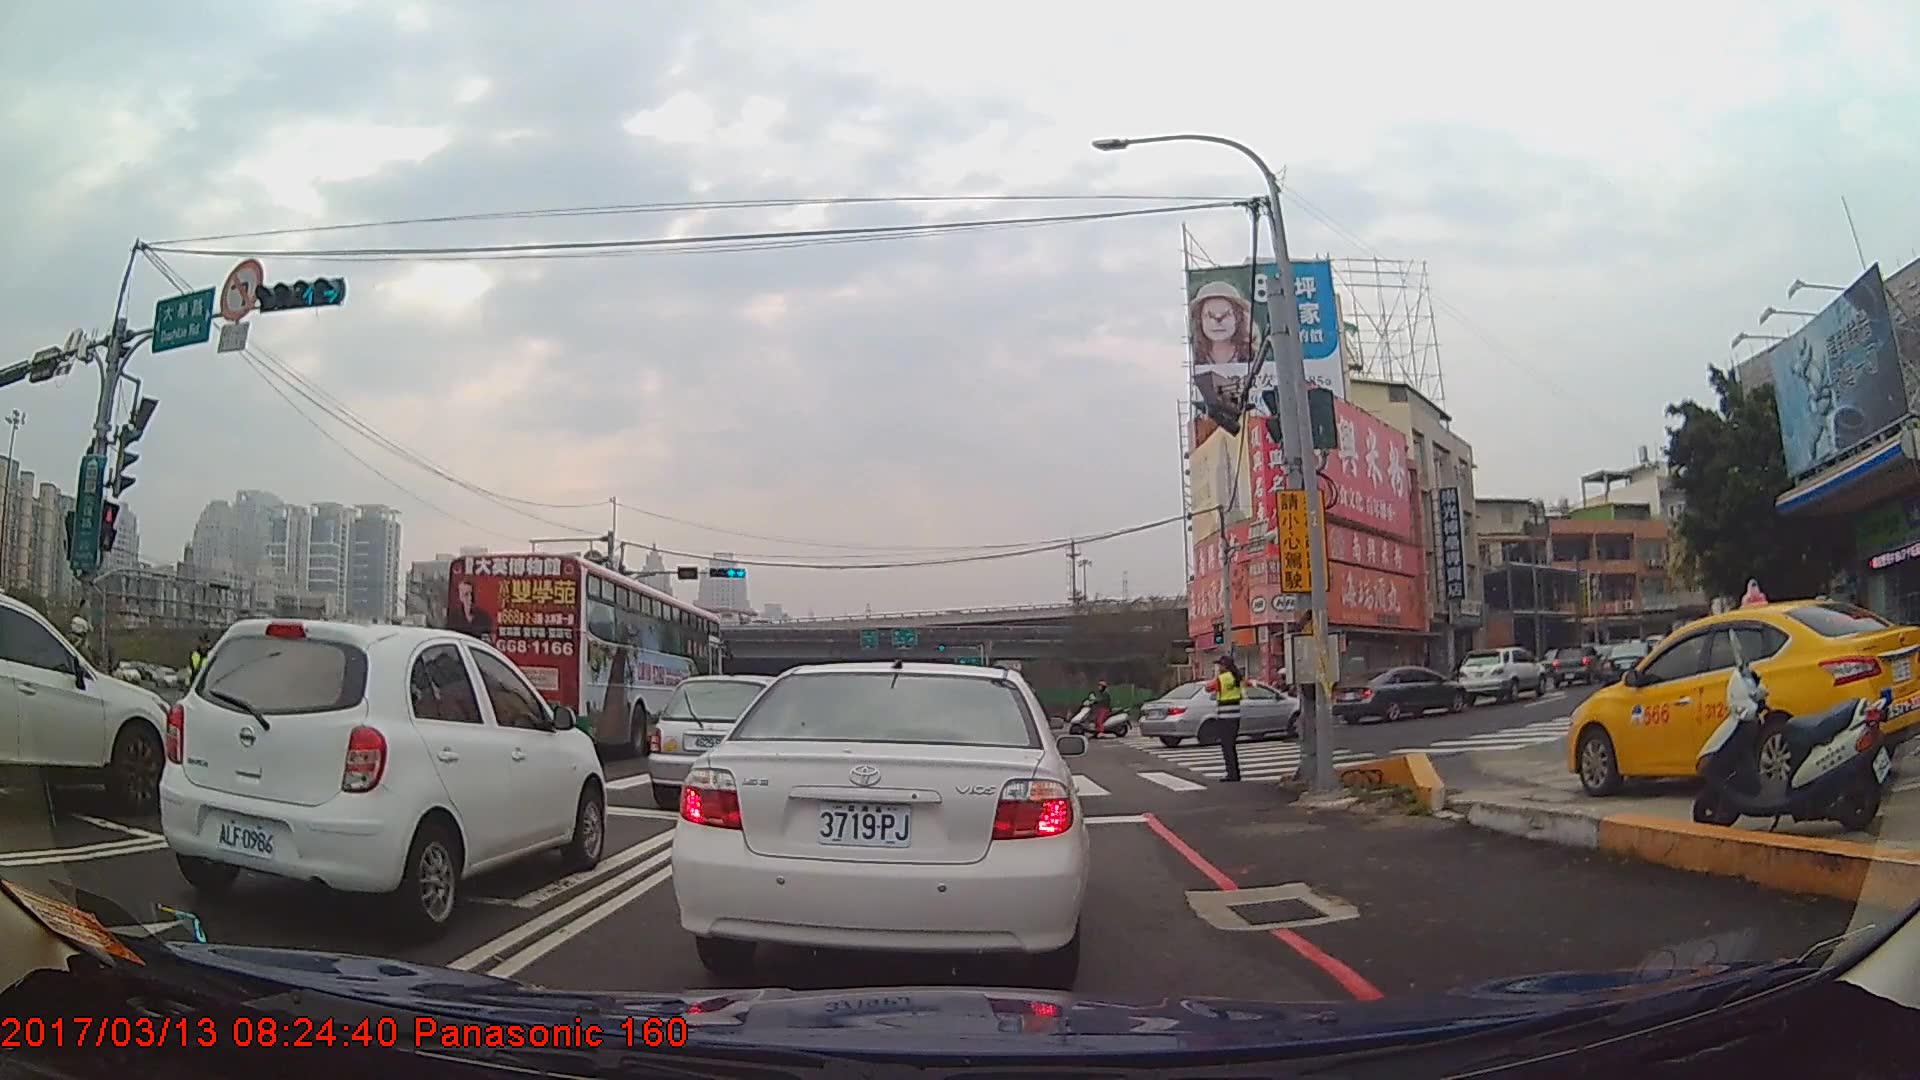pedestrian: (1205, 656, 1247, 785), (185, 637, 222, 744)
rider: (58, 617, 120, 732), (1072, 682, 1133, 738)
vehicle: (155, 615, 605, 928), (668, 658, 1087, 979), (1566, 599, 1920, 798), (441, 553, 727, 758), (0, 592, 176, 817), (645, 672, 828, 808), (1134, 676, 1311, 748), (1331, 663, 1466, 723), (1457, 645, 1545, 707), (1598, 638, 1662, 692), (1552, 642, 1604, 688)
